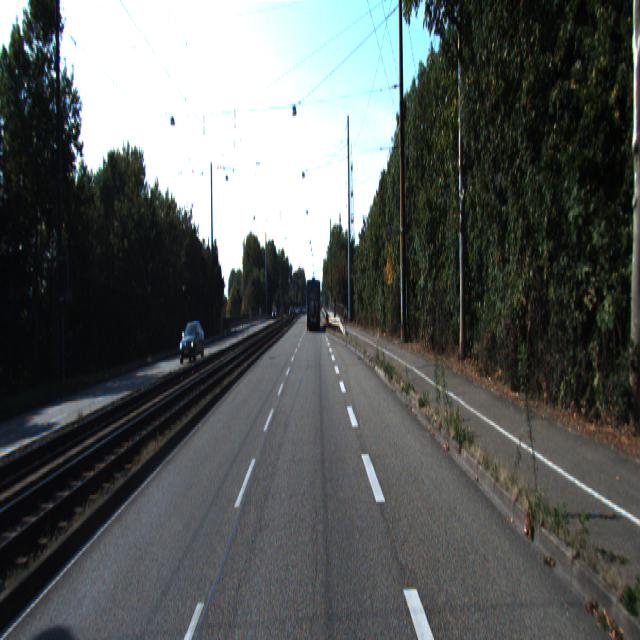Car: (178, 320, 205, 364), (306, 279, 321, 332)
